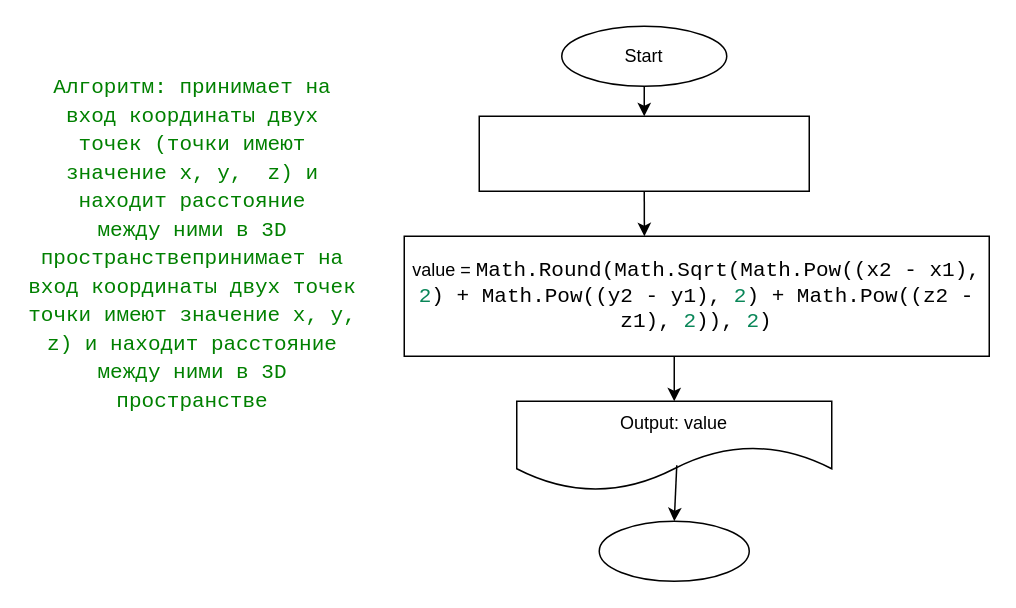
The diagram is 1016 pixels wide and 608 high, and some of its shapes have lost their labels. The centre of each missing label's shape, as x and y in pixels:
Stop: the point at 673,550
x1 = 3 y1 = 6 z1 =8 x2 = 2 y2 = -1 z2 = 7: the point at 643,153
